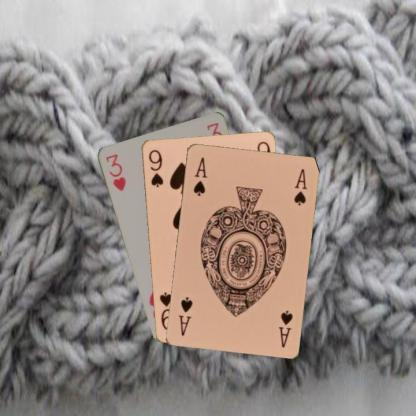3h: (102, 150, 128, 192)
9s: (146, 146, 164, 188)
As: (190, 154, 208, 197), (276, 308, 294, 348)
